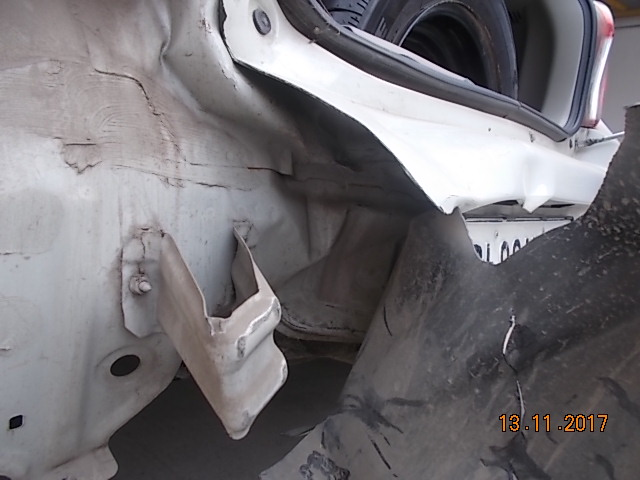Large_tear_or_damage: (4, 7, 595, 420)
